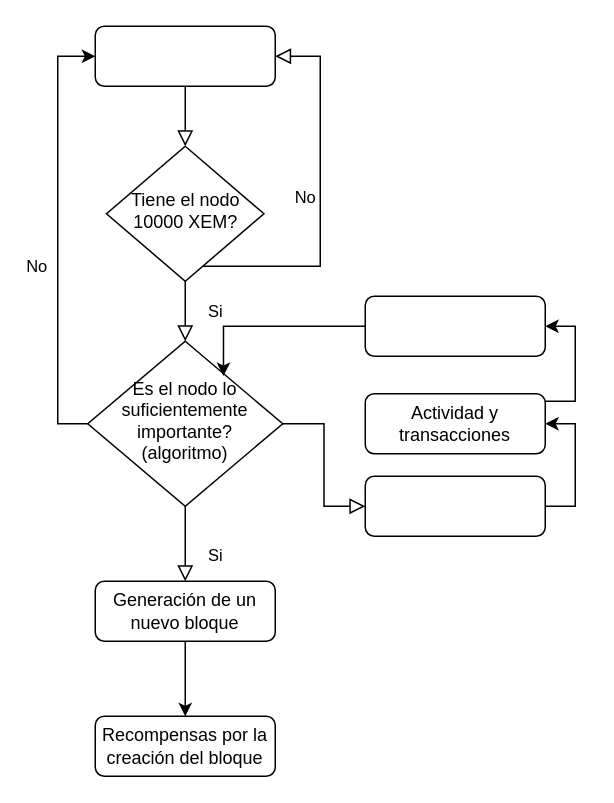
Some shapes in this 614 by 803 pixel diagram are drawn without their labels. Each missing label, with the centre of its shape:
"Nodo conectado a la red" goes at (184,55).
"Proximidad topológica" goes at (454,325).
"Saldo en la cuenta" goes at (454,505).
